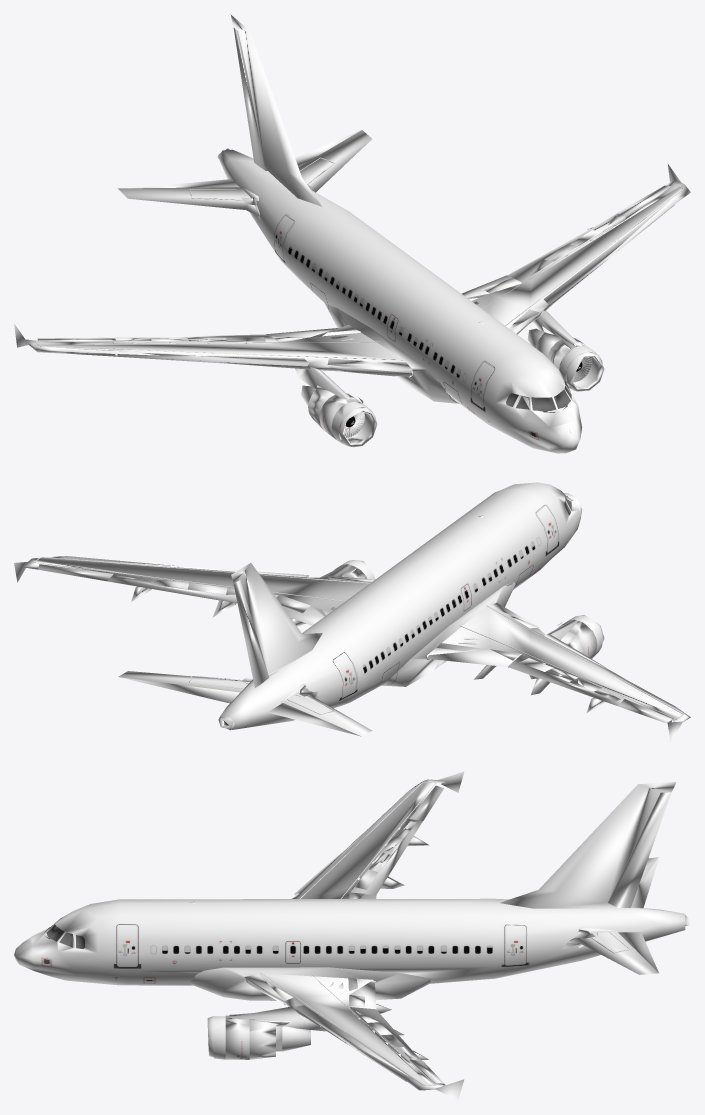
The picture shows the model from 3 angles, top to bottom: view 1: azimuth 30°, elevation 25°; view 2: azimuth 150°, elevation 25°; view 3: azimuth 270°, elevation 25°; orthographic projection. The views are drawn at different scales.
Parts seen in each view (by area): view 1: Material1 (×3), Material3, Material2; view 2: Material1 (×3), Material3; view 3: Material3, Material1 (×3).
Boxes of the visible parts, bbox=[...] form: Material1 (×3): bbox=[14, 14, 690, 447]; Material3: bbox=[218, 149, 582, 453]; Material2: bbox=[506, 381, 571, 411]; Material1 (×3): bbox=[14, 556, 690, 741]; Material3: bbox=[219, 482, 582, 729]; Material3: bbox=[14, 898, 685, 1000]; Material1 (×3): bbox=[207, 771, 690, 1099].
Bounding box in the file's own units: 33.84 × 11.4 × 31.43.
Materials: 11 (3 with a texture image).
